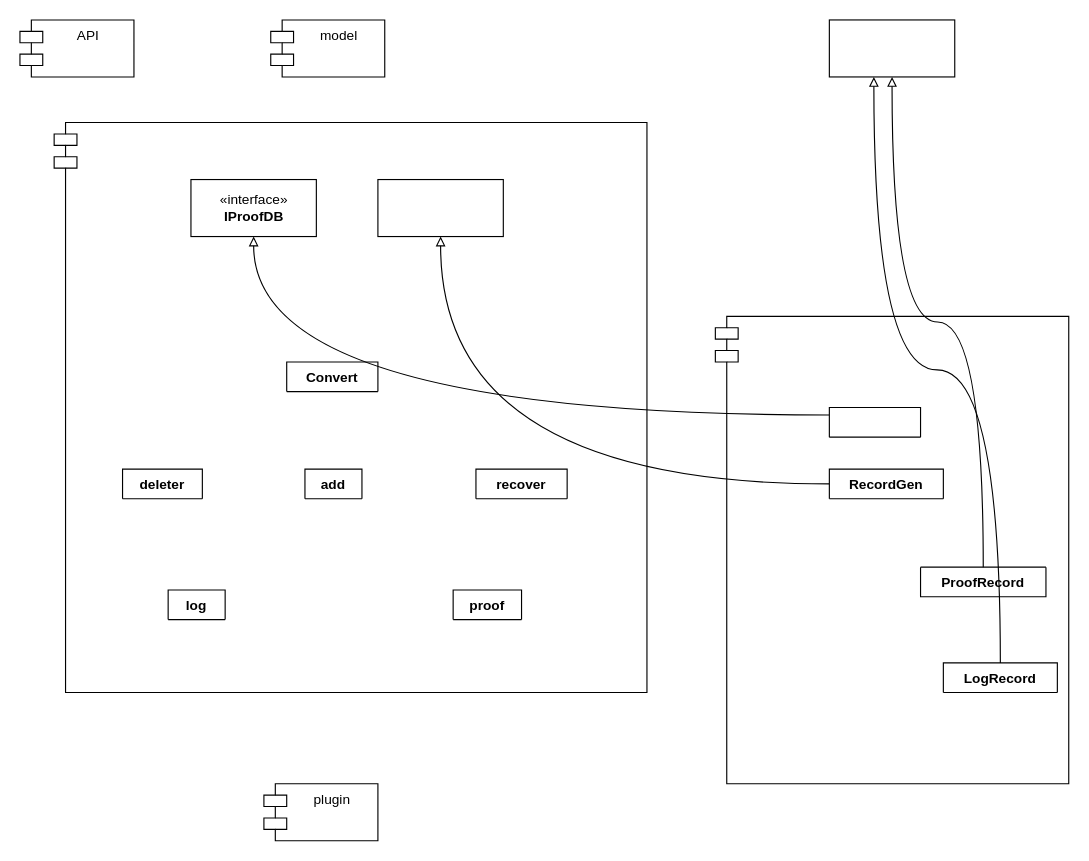
Image size: 1089x861. Some labels were removed from this diagram. Each missing label, with the box of its shape:
dao: (714, 315, 1069, 784)
ProofDB: (828, 406, 921, 437)
service: (53, 121, 647, 693)
«interface» IRecordGen: (377, 178, 503, 237)
«interface» Record: (828, 19, 955, 77)
